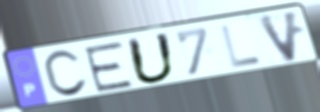7: (174, 26, 211, 79)
C: (41, 48, 91, 100)
E: (82, 39, 136, 94)
L: (218, 23, 264, 71)
U: (124, 31, 178, 86)
V: (255, 8, 302, 65)
